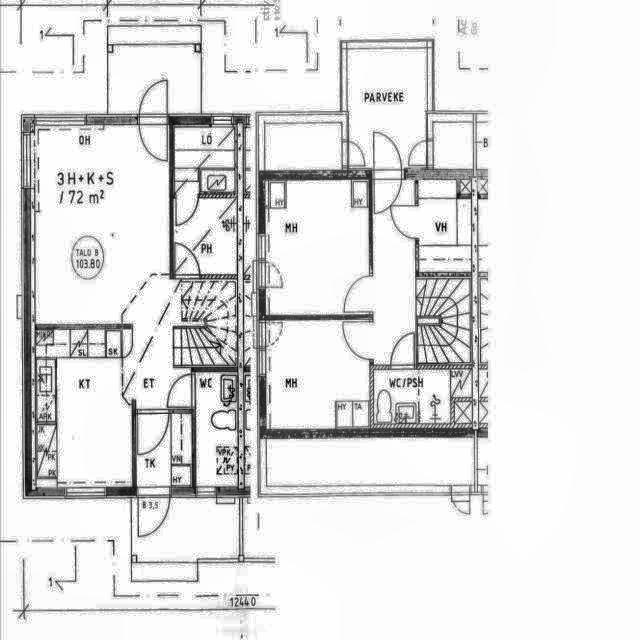room: (35, 127, 169, 324), (265, 181, 369, 315), (266, 321, 370, 429), (349, 49, 427, 166), (374, 369, 472, 423), (419, 180, 471, 272), (174, 199, 237, 274), (196, 373, 237, 486), (136, 414, 191, 486), (175, 128, 234, 167), (433, 123, 473, 168)
